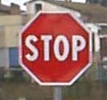stop: (16, 8, 96, 86)
